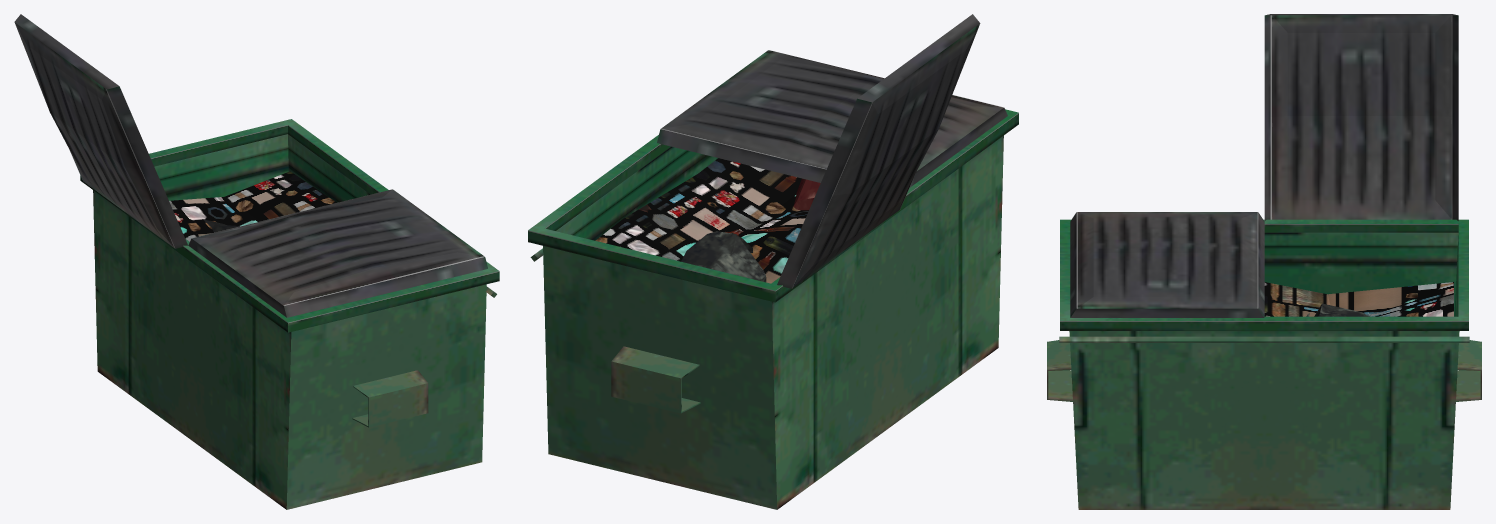
Rendered from Urban_DumpsterFullLidOpen_Model.fbx.
3 renders of one model, left to right at view 1: azimuth 30°, elevation 25°; view 2: azimuth 150°, elevation 25°; view 3: azimuth 270°, elevation 25°, orthographic. The views are drawn at different scales.
Parts seen in each view (by area): view 1: Urban_DumpsterFullLidOpen_Mesh; view 2: Urban_DumpsterFullLidOpen_Mesh; view 3: Urban_DumpsterFullLidOpen_Mesh.
Part boxes in pixels (x1=…): Urban_DumpsterFullLidOpen_Mesh: x1=14, y1=14, x2=499, y2=509; Urban_DumpsterFullLidOpen_Mesh: x1=528, y1=14, x2=1018, y2=509; Urban_DumpsterFullLidOpen_Mesh: x1=1047, y1=14, x2=1481, y2=509.
Bounding box in the file's own units: 2.74 × 3.41 × 3.67.
